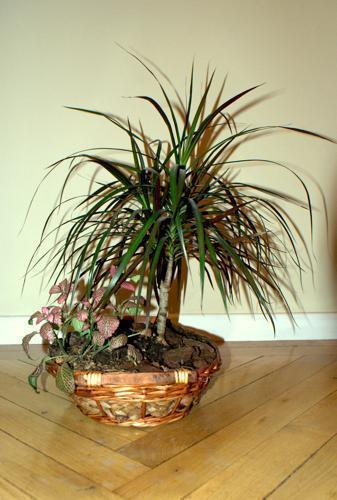Matera: (16, 51, 326, 431)
